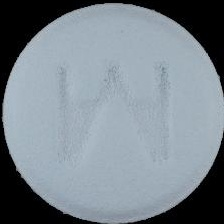0378-0771: (0, 0, 224, 224)
